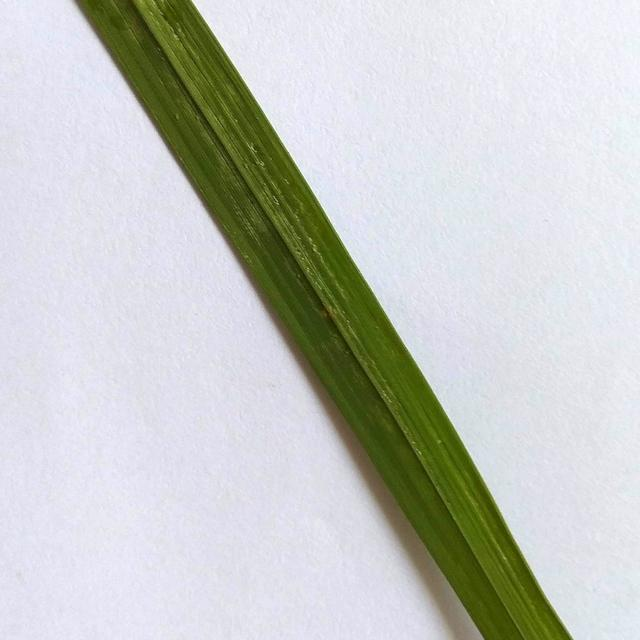Rice_Healthy: (81, 0, 572, 640)
